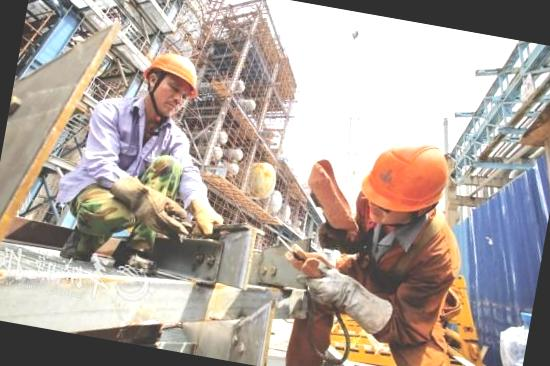helmet: (346, 132, 466, 220), (144, 46, 207, 98)
no_vest: (312, 210, 466, 348), (70, 99, 193, 212)
person: (291, 126, 500, 366), (50, 38, 219, 278)
